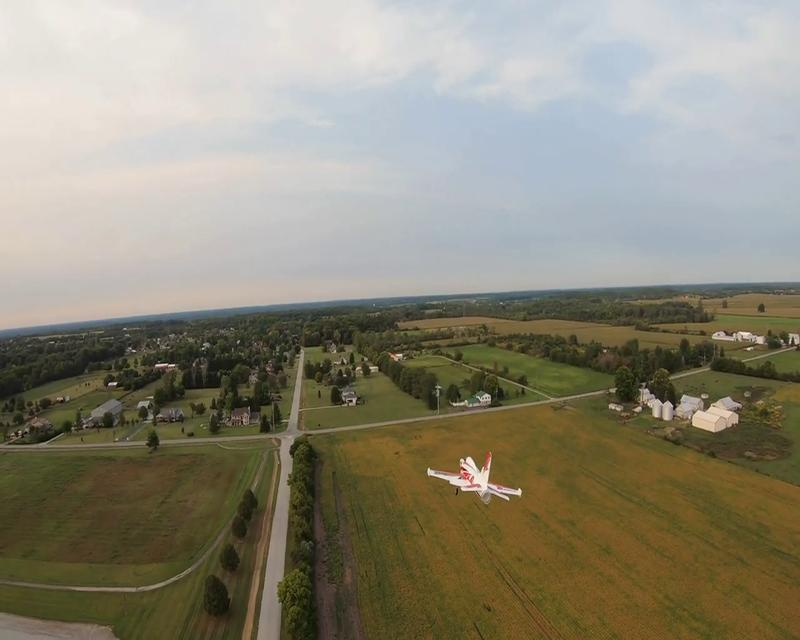UAV: (425, 450, 522, 505)
